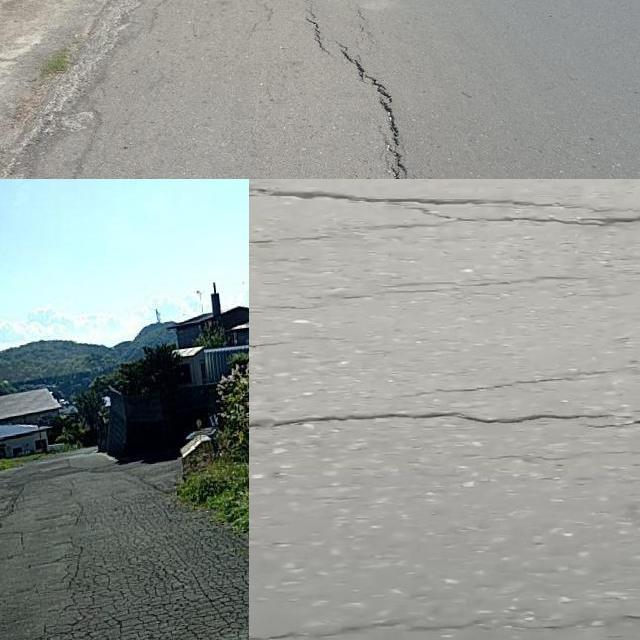Melintang: (249, 179, 640, 240), (249, 395, 640, 446)
Memanjang: (288, 1, 420, 179)
Retak Buaya: (40, 490, 249, 640)
